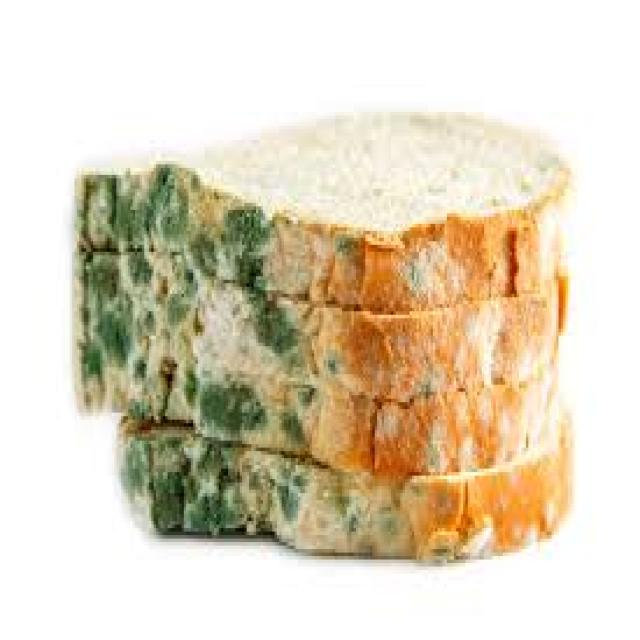Wet Waste: (45, 74, 576, 565)
